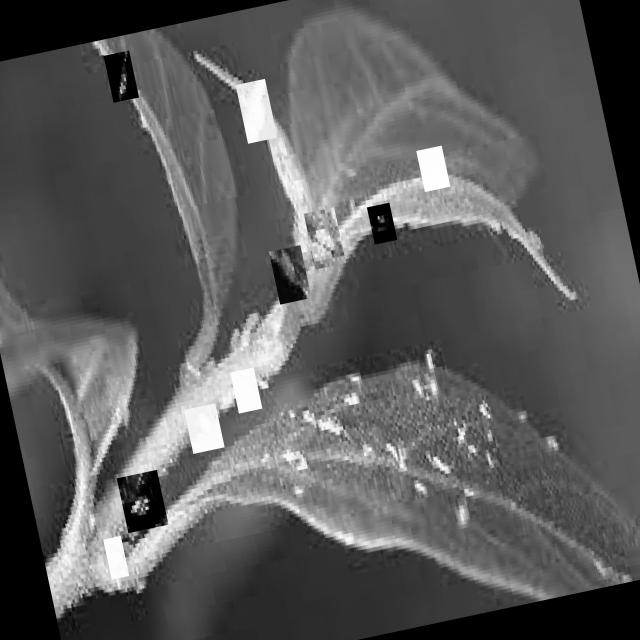aphid: (116, 470, 168, 532), (234, 78, 276, 144), (302, 207, 345, 269), (268, 245, 311, 304), (183, 402, 224, 453), (104, 50, 138, 102), (416, 146, 450, 192), (230, 367, 262, 413), (367, 202, 397, 245), (103, 535, 129, 579)
